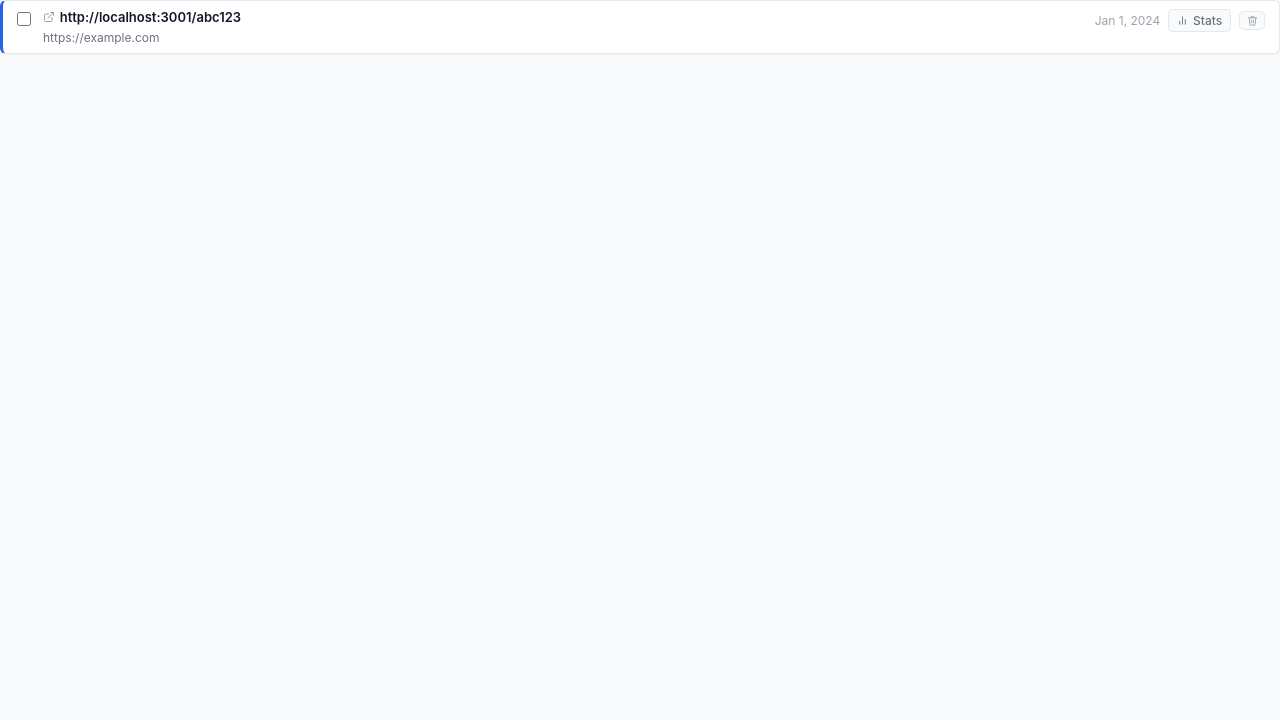
Scenario: Table › deletes a single URL after confirming, shows a toast, and refreshes
The image size is (1280, 720).
Click the button named "Delete /abc123" at (1252, 21), box [1239, 11, 1265, 30]
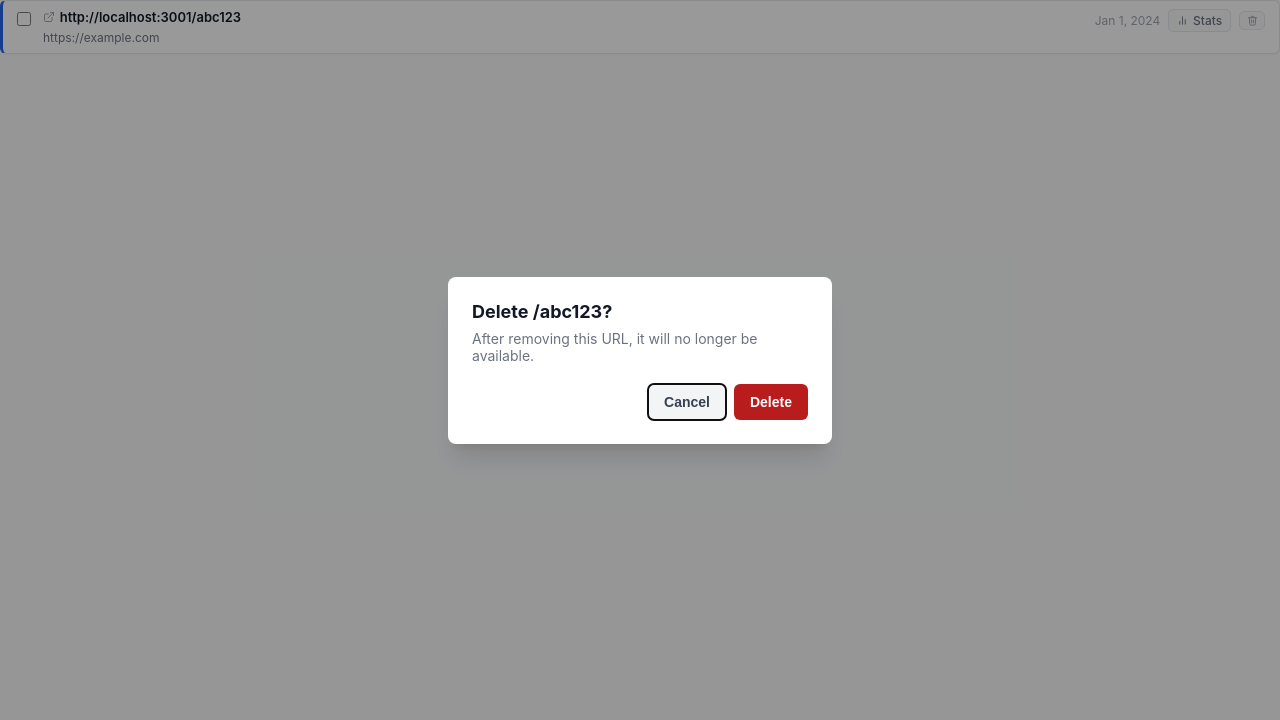
Now the heading "Delete /abc123?" is shown, box [472, 300, 612, 322]
Click the button "Delete" at (771, 402), box [734, 384, 808, 420]
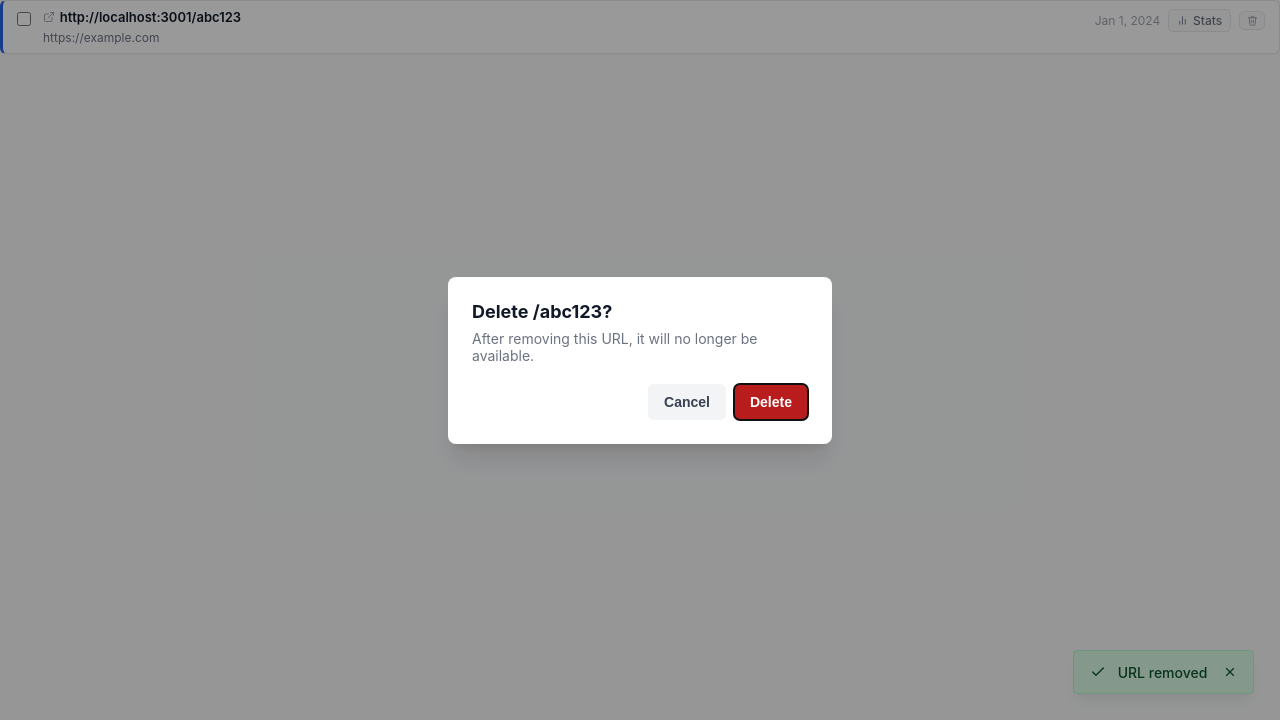
Now the text "URL removed" is shown, box [1118, 664, 1208, 681]
